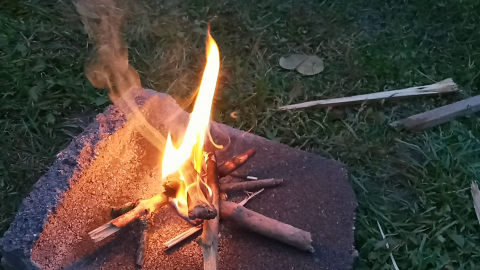fire: (157, 22, 232, 216)
